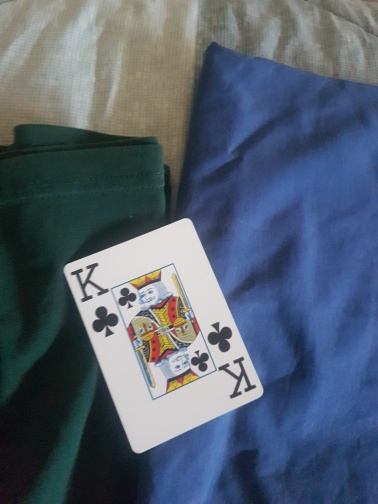king: (63, 217, 264, 453)
